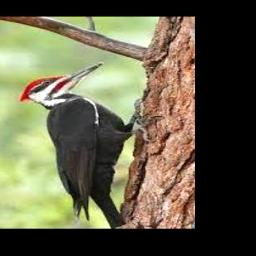Woodpecker: (19, 62, 159, 228)
